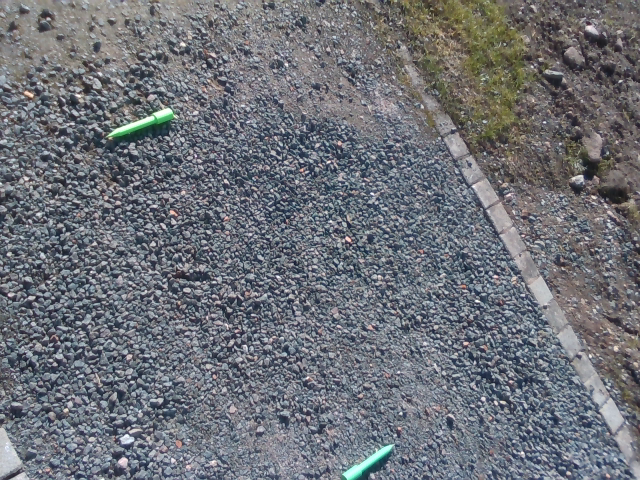Probe: (105, 103, 179, 142), (338, 439, 401, 480)
